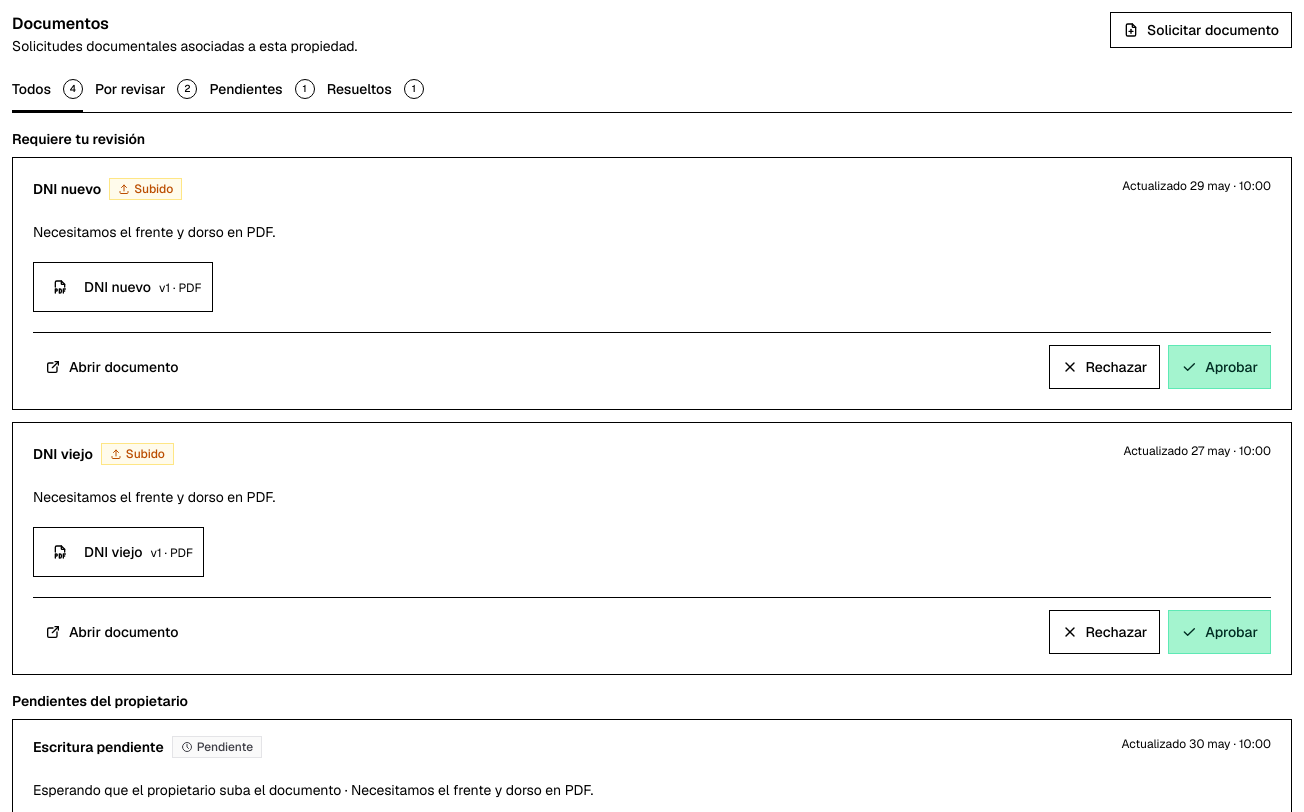
it: PropertyDocumentRequests › groups requests by action priority, sorts each group, and filters with counters
expect the heading "Pendientes del propietario" is shown: met, box [12, 692, 188, 710]
expect the element with test id "document-section-heading-review" reads "Requiere tu revisión": met, box [12, 130, 145, 148]
Click the tab with aria-label "Por revisar · 2".
click(146, 90)  # box [95, 68, 197, 112]
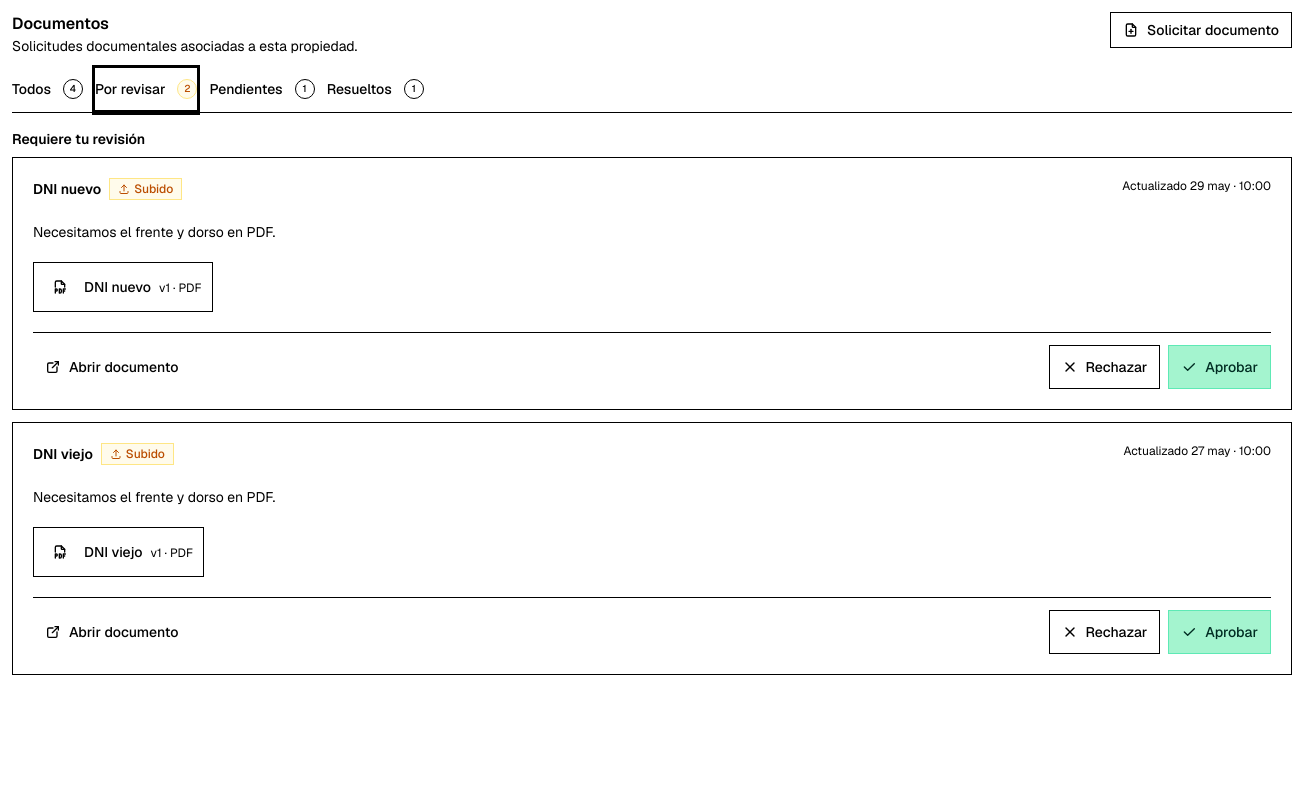
expect the tab with aria-label "Por revisar · 2" is selected: met, box [95, 68, 197, 112]
expect the tab with aria-label "Por revisar · 2" has class "border-foreground" "text-foreground": met, box [95, 68, 197, 112]
expect the text "2" has class "bg-amber-50" "text-amber-700": met, box [178, 79, 198, 99]
Click the tab with aria-label "Pendientes · 1".
click(262, 90)  # box [210, 68, 315, 112]
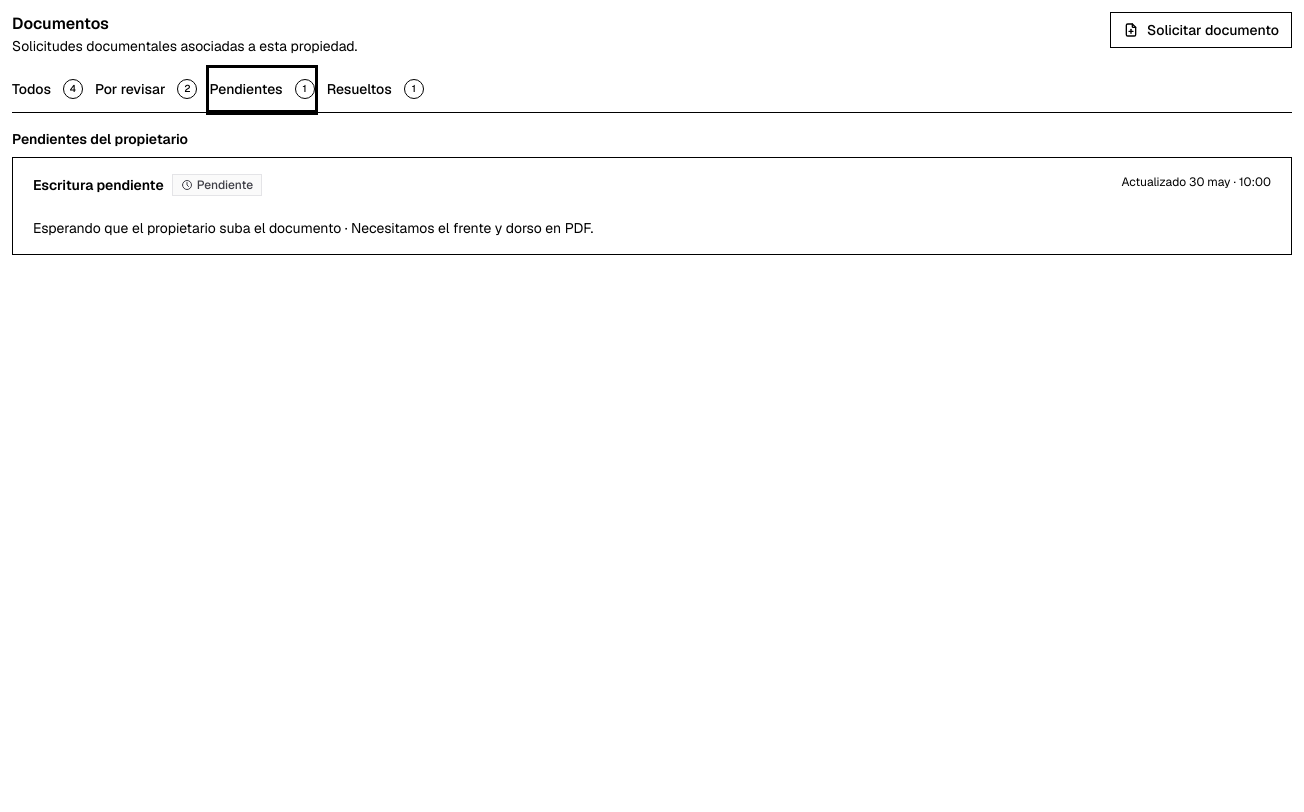
expect the heading "Requiere tu revisión" is gone: met
expect the heading "Pendientes del propietario" is shown: met, box [12, 130, 188, 148]
expect the heading "Escritura pendiente" is shown: met, box [33, 175, 164, 195]
